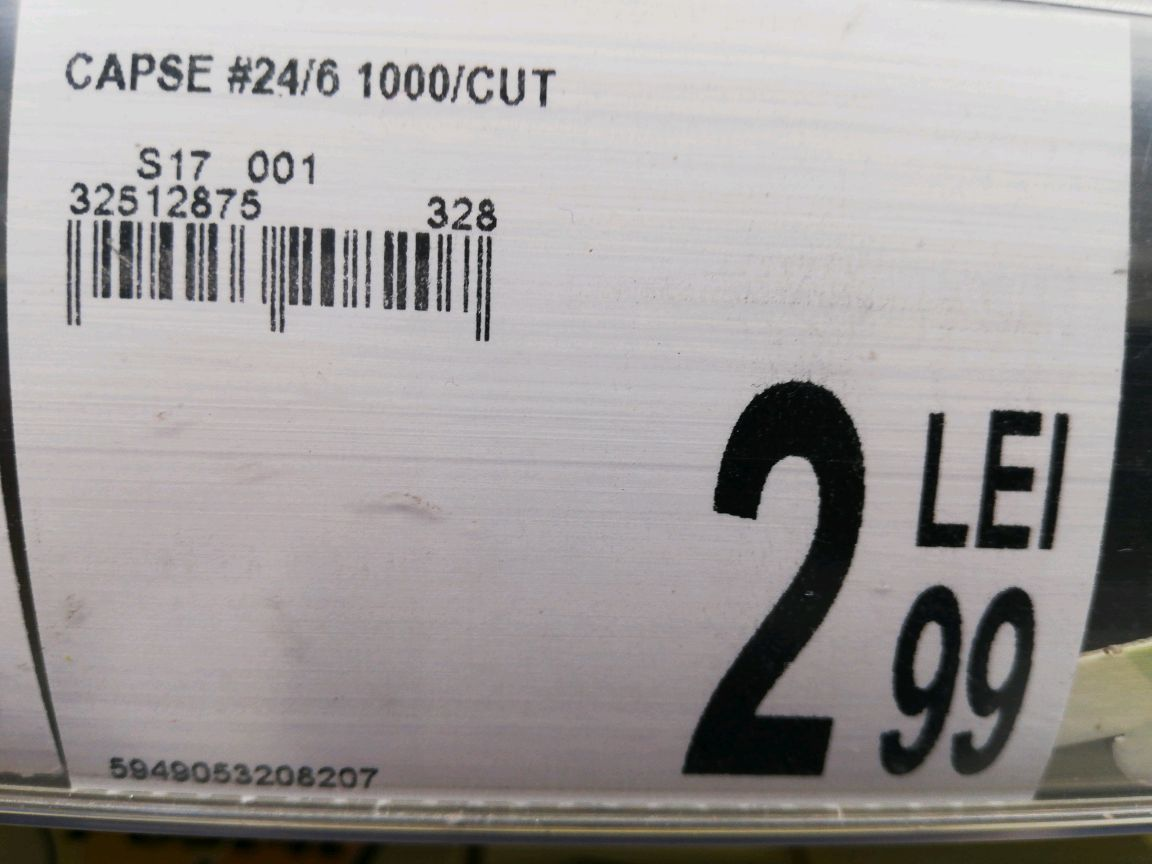price_bani: (863, 573, 1052, 784)
price_lei: (639, 373, 868, 782)
price_tag: (13, 1, 1113, 811)
product_id: (103, 750, 399, 790)
product_name: (55, 44, 567, 120)
